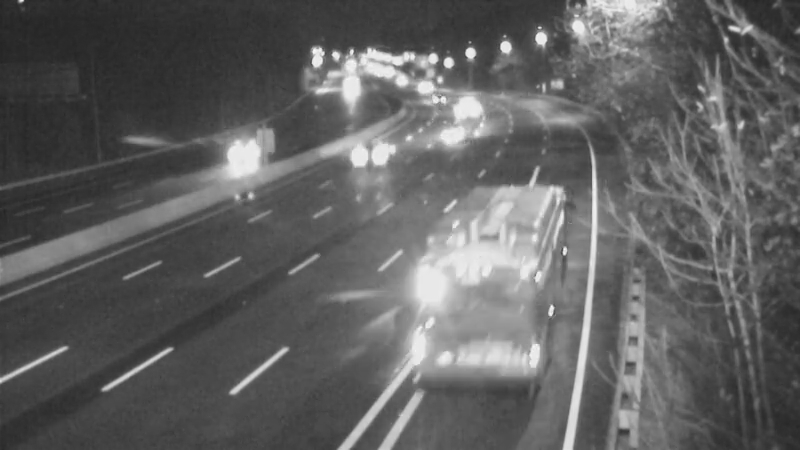vehicle: (322, 119, 402, 199), (454, 233, 534, 313), (206, 121, 286, 201), (377, 53, 427, 103), (392, 62, 442, 112), (412, 78, 462, 128), (438, 82, 488, 132), (431, 110, 481, 160), (325, 63, 375, 113)
